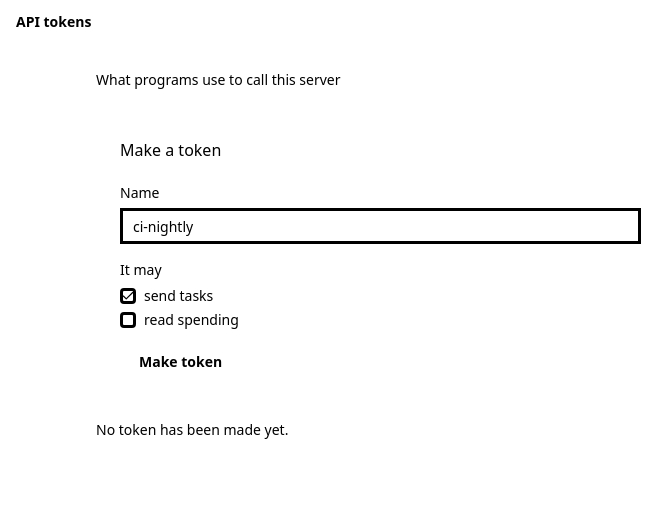
Scenario: API tokens › says why a token was refused, and keeps the form
Type "x" into the field labelled "Name".
click(380, 226); type("x")  # box [120,208,640,244]
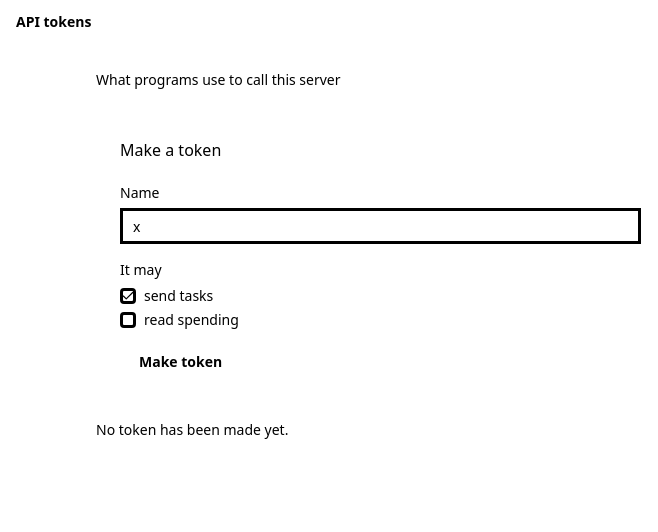
Click the button "Make token".
click(181, 362)  # box [120,344,241,380]
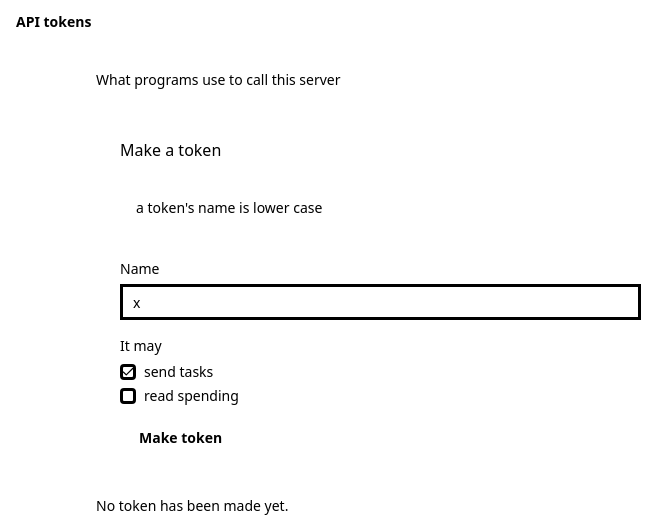
Expected: the message reads "a token's name is lower case", [136,198,322,217]
